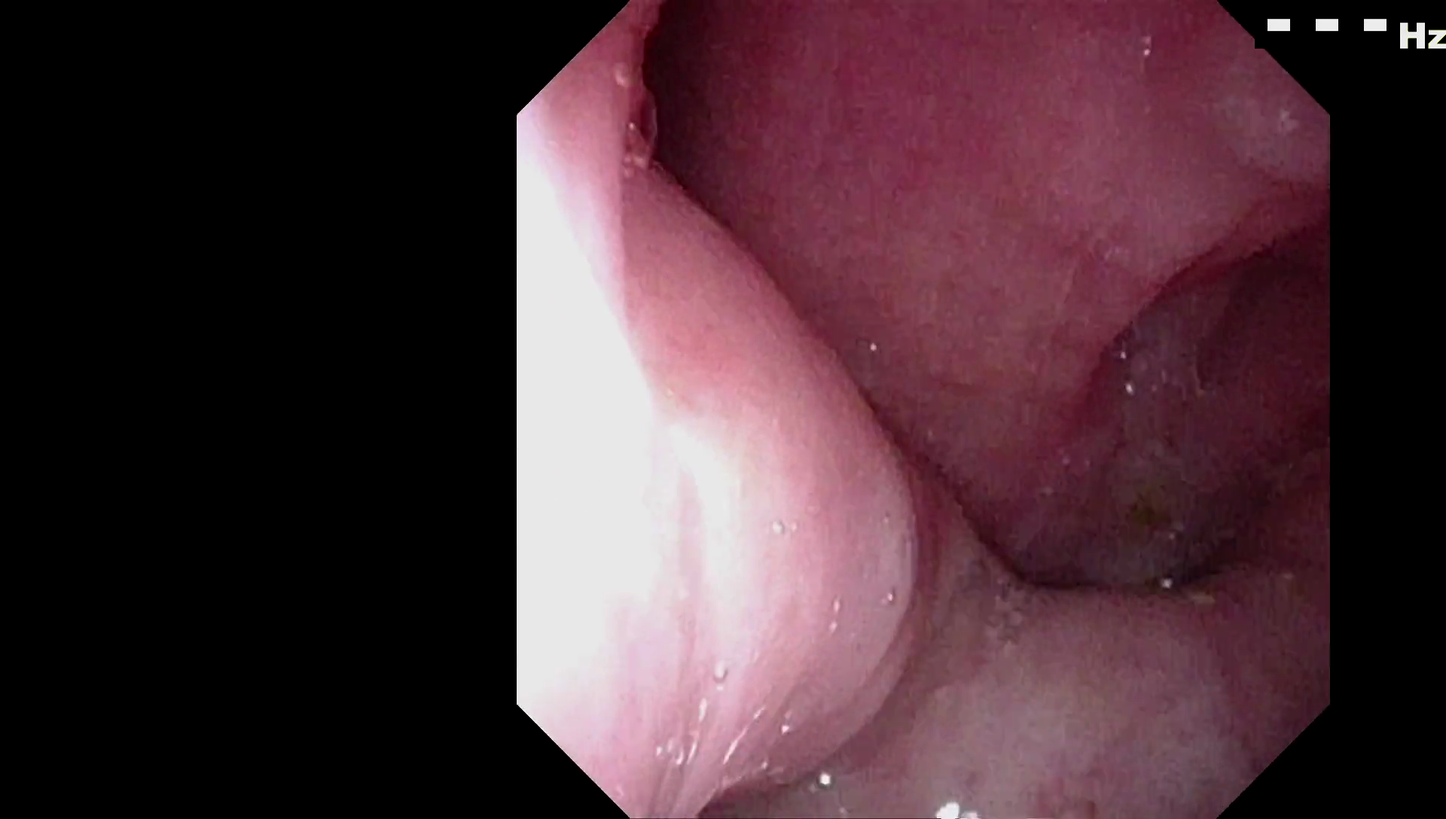close_wall: (524, 135, 836, 793)
next: (974, 443, 1309, 608), (635, 4, 773, 239)
